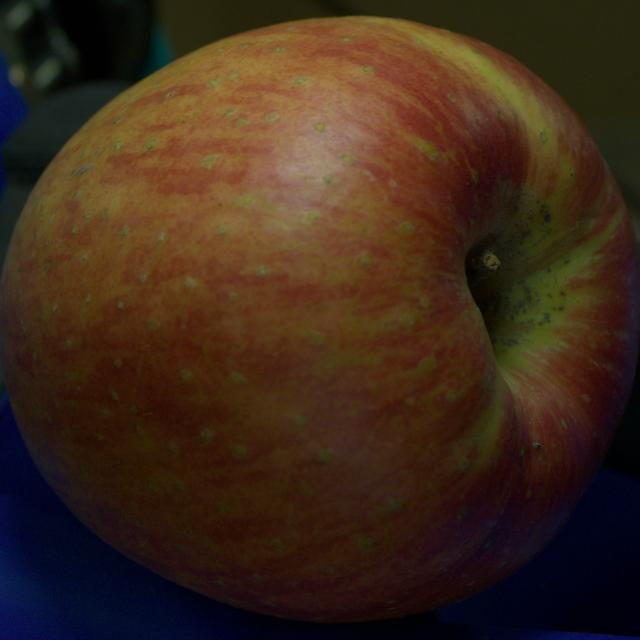apple: (0, 17, 639, 621)
